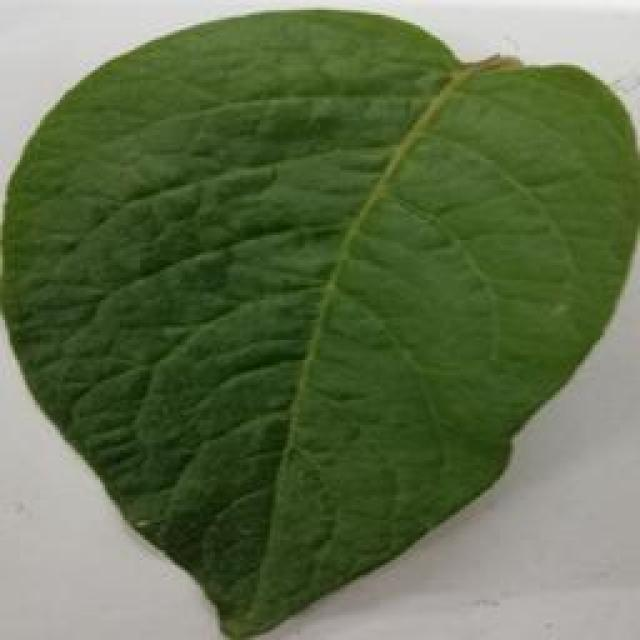Potato_Healthy: (4, 12, 627, 638)
